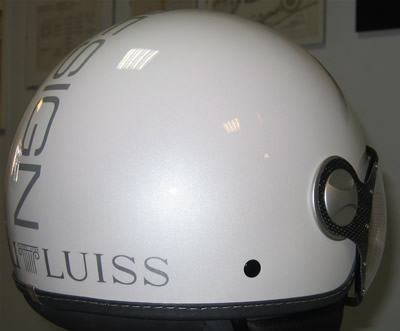helmet: (19, 29, 371, 294)
